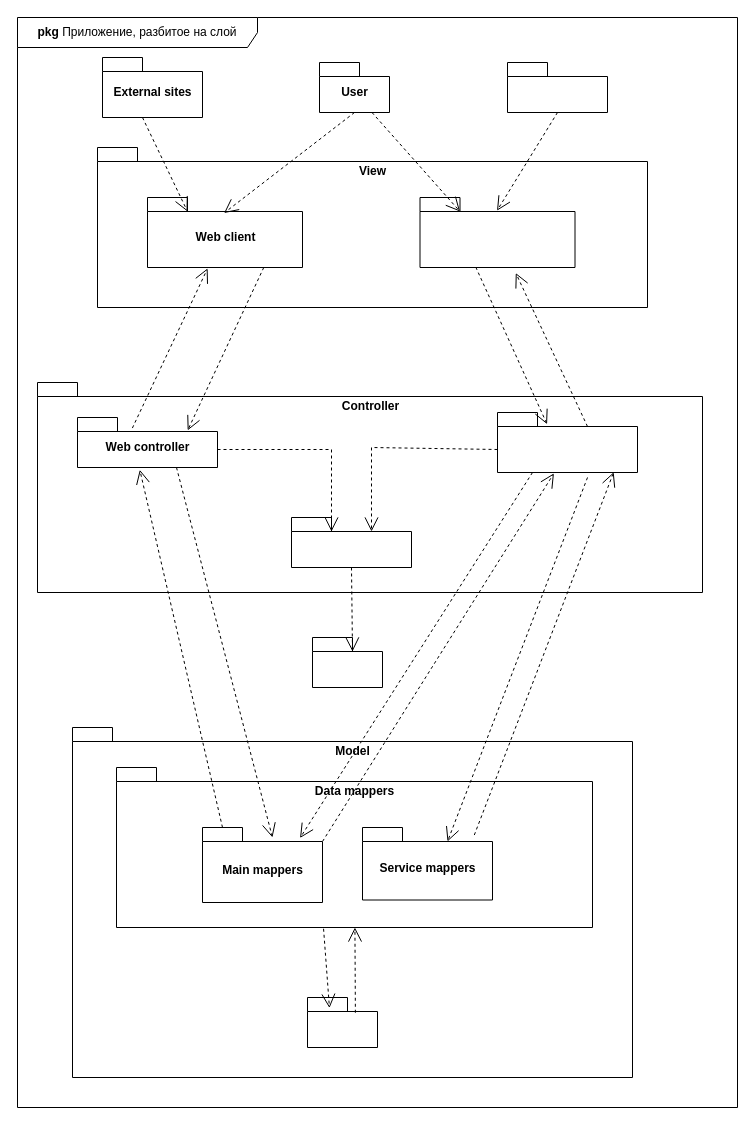
Some shapes in this 755 by 1125 pixel diagram are drawn without their labels. The box of each missing label's shape, as (x1, y1, x2, y2) in pixels:
Bank: (312, 636, 382, 688)
Database: (306, 996, 378, 1048)
Local client: (419, 196, 575, 268)
Local controller: (496, 412, 638, 472)
Money transaction: (290, 516, 412, 568)
Service users: (506, 62, 608, 112)
